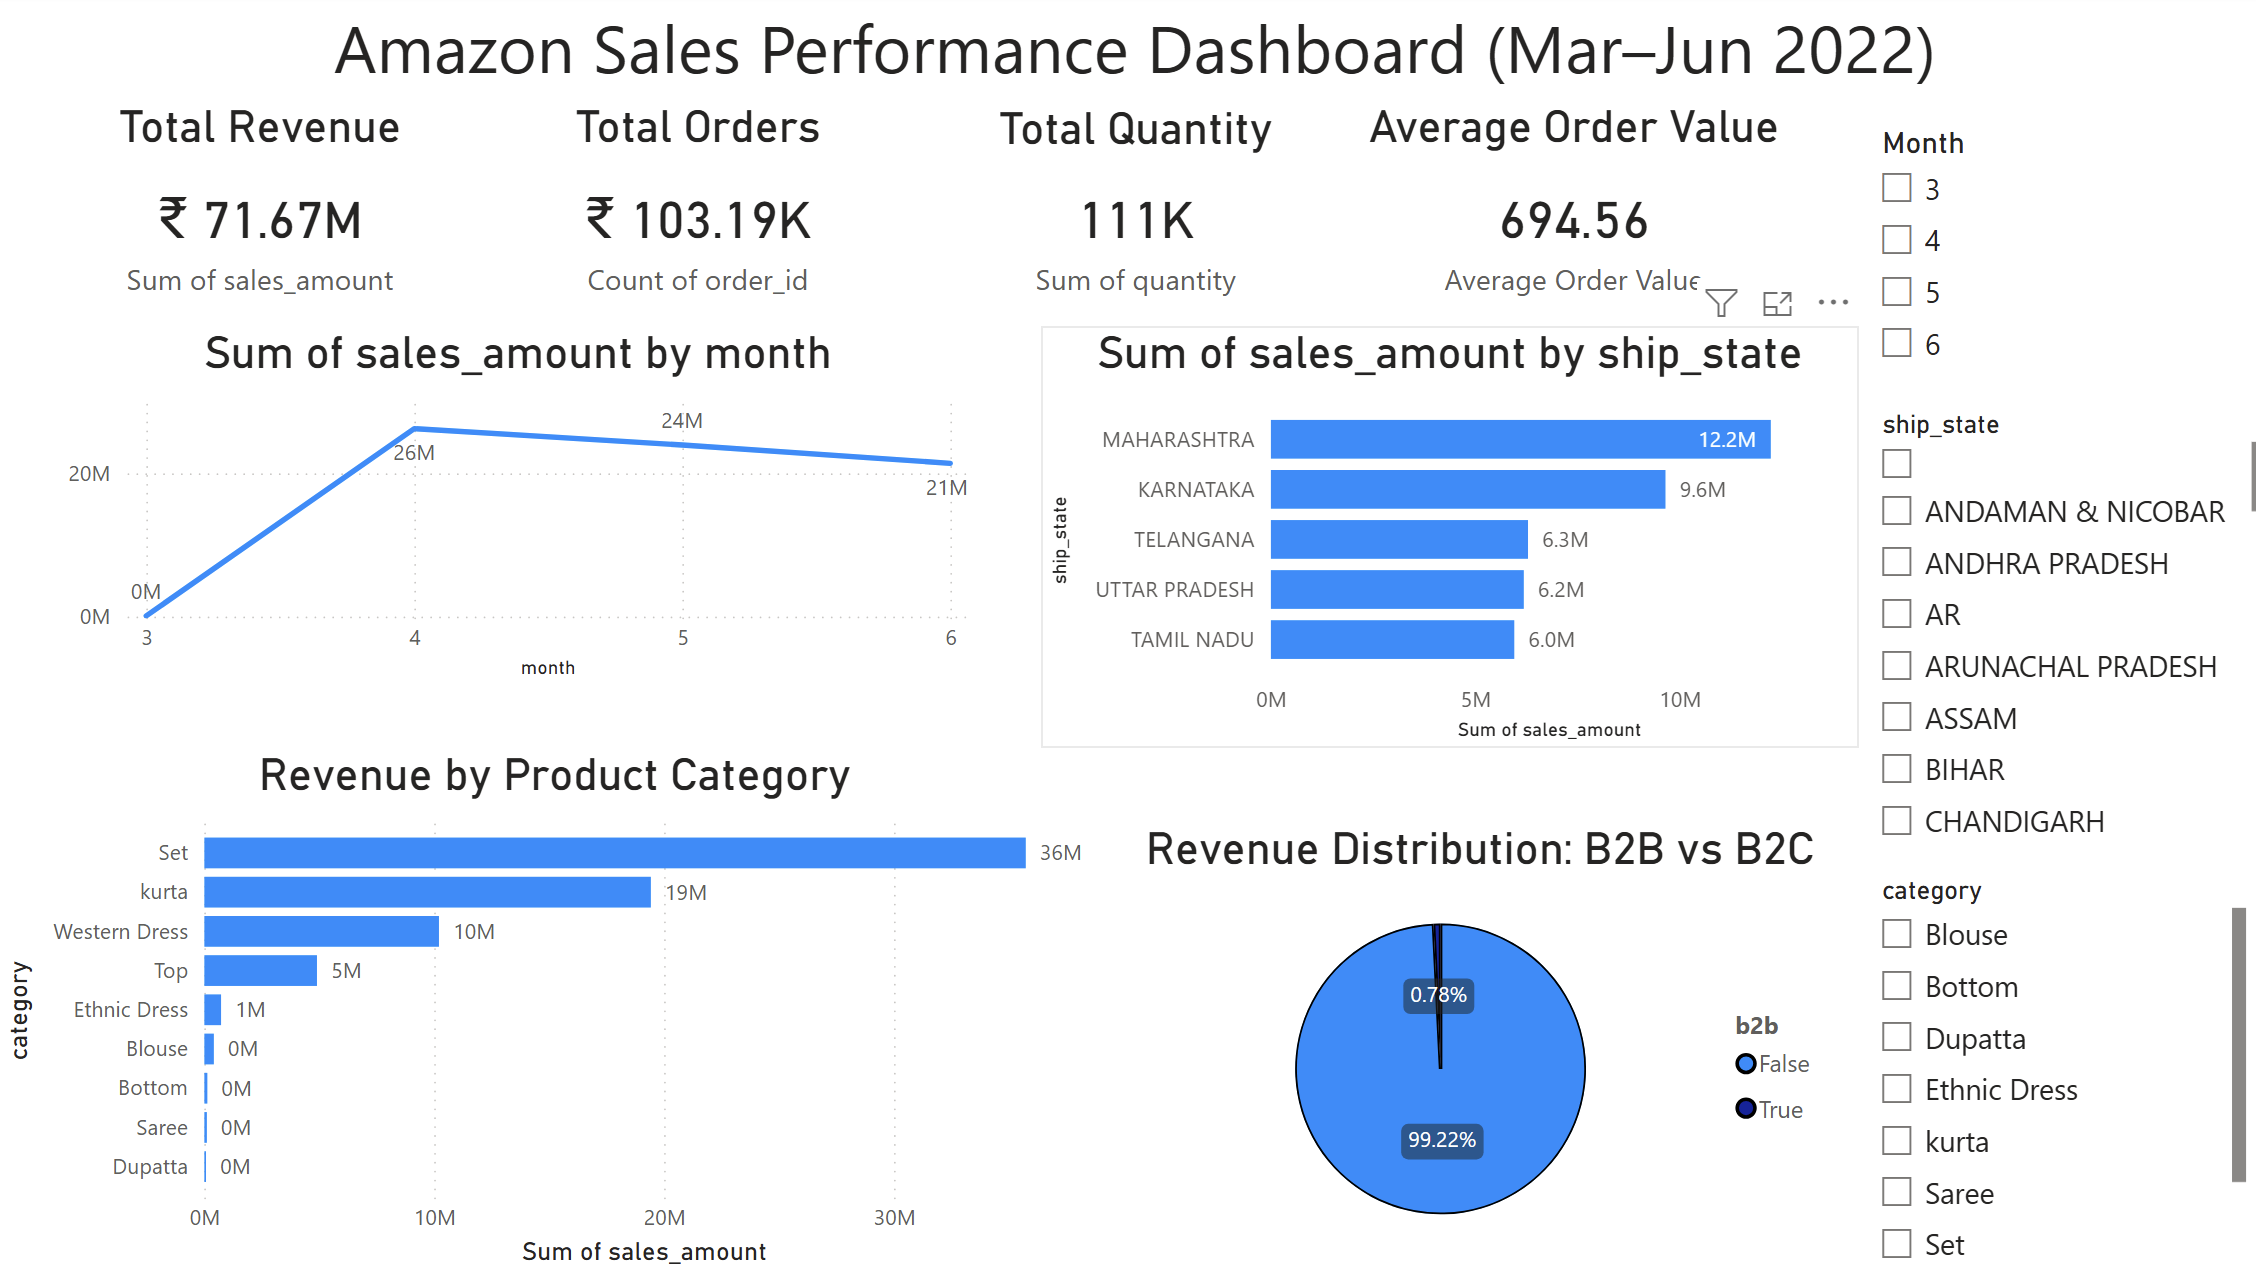

Layout of this report page (visuals, bound fields, positions):
{"tool":"powerbi","page":{"name":"Executive Overview","canvas":[1280,720],"ordinal":5},"visuals":[{"type":"card","title":"Total Revenue","fields":{"Values":["Sum(cleaned_amazon_sales (2).sales_amount)"]},"box":[25.8,60.7,246,123.8],"z":0,"group":"g1"},{"type":"slicer","fields":{"Values":["sales.month"]},"box":[1046.9,69.6,233.6,159.5],"z":0},{"type":"slicer","fields":{"Values":["sales.ship_state"]},"box":[1046.9,229.1,233.6,261.7],"z":1},{"type":"slicer","fields":{"Values":["sales.category"]},"box":[1046.9,490.9,222.4,229.1],"z":2},{"type":"group","id":"g1","title":"Group 1","box":[25.8,60.7,984,123.6],"z":3},{"type":"lineChart","fields":{"Category":["sales.month"],"Y":["Sum(sales.sales_amount)"]},"box":[35.9,187.6,515.6,202.2],"z":4},{"type":"clusteredBarChart","fields":{"Category":["sales.ship_state"],"Y":["Sum(sales.sales_amount)"]},"box":[587.5,187.6,459.4,237],"z":5},{"type":"clusteredBarChart","title":"Revenue by Product Category","fields":{"Category":["sales.category"],"Y":["Sum(sales.sales_amount)"]},"box":[0,424.6,629,295.4],"z":6},{"type":"pieChart","title":"Revenue Distribution: B2B vs B2C","fields":{"Category":["sales.b2b"],"Y":["Sum(sales.sales_amount)"]},"box":[641.4,466.1,392,253.9],"z":7},{"type":"textbox","box":[0,0,1280.5,61.8],"z":8},{"type":"card","title":"Total Orders","fields":{"Values":["Count(cleaned_amazon_sales (2).order_id)"]},"box":[271.8,60.7,246,123.8],"z":1000,"group":"g1"},{"type":"card","title":"Total Quantity","fields":{"Values":["Sum(sales.quantity)"]},"box":[517.1,62.3,248,121.2],"z":2000,"group":"g1"},{"type":"card","title":"Average Order Value","fields":{"Values":["sales.Average Order Value"]},"box":[763.7,60.7,246,123.8],"z":3000,"group":"g1"}]}

Visuals, with their boxes on the page's 1280x720 design canvas (x1, y1, x2, y2). These are canvas units, not pixel positions in the 2256x1274 screenshot, which may show the page scaled, cropped or inside an application window:
"Total Revenue" card: {"x1": 26, "y1": 61, "x2": 272, "y2": 184}
slicer - sales.month: {"x1": 1047, "y1": 70, "x2": 1280, "y2": 229}
slicer - sales.ship_state: {"x1": 1047, "y1": 229, "x2": 1280, "y2": 491}
slicer - sales.category: {"x1": 1047, "y1": 491, "x2": 1269, "y2": 720}
"Group 1" group: {"x1": 26, "y1": 61, "x2": 1010, "y2": 184}
lineChart - sales.month x Sum(sales.sales_amount): {"x1": 36, "y1": 188, "x2": 552, "y2": 390}
clusteredBarChart - sales.ship_state x Sum(sales.sales_amount): {"x1": 588, "y1": 188, "x2": 1047, "y2": 425}
"Revenue by Product Category" clusteredBarChart: {"x1": 0, "y1": 425, "x2": 629, "y2": 720}
"Revenue Distribution: B2B vs B2C" pieChart: {"x1": 641, "y1": 466, "x2": 1033, "y2": 720}
textbox: {"x1": 0, "y1": 0, "x2": 1280, "y2": 62}
"Total Orders" card: {"x1": 272, "y1": 61, "x2": 518, "y2": 184}
"Total Quantity" card: {"x1": 517, "y1": 62, "x2": 765, "y2": 184}
"Average Order Value" card: {"x1": 764, "y1": 61, "x2": 1010, "y2": 184}
